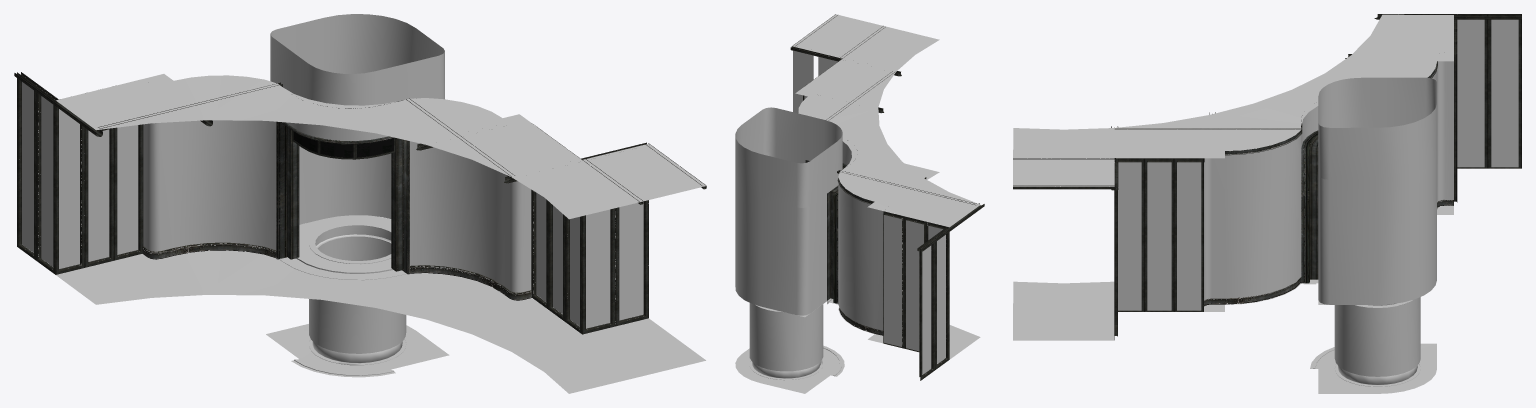
Rendered from tesla_modules_core_wall_inner_01.dae.
3 renders of one model, left to right at view 1: azimuth 30°, elevation 25°; view 2: azimuth 150°, elevation 25°; view 3: azimuth 270°, elevation 25°, orthographic. The views are drawn at different scales.
Parts seen in each view (by area): view 1: polySurface527, polySurface473, polySurface525, polySurface528, polySurface499, polySurface521, polySurface1; view 2: polySurface527, polySurface525, polySurface499, polySurface528, polySurface473, polySurface521; view 3: polySurface527, polySurface525, polySurface499, polySurface528, polySurface473, polySurface521.
Part boxes in pixels (box(x1,y1,x2,y2)): polySurface527: box(56, 74, 705, 377); polySurface473: box(56, 250, 705, 393); polySurface525: box(270, 14, 444, 353); polySurface528: box(14, 72, 706, 334); polySurface499: box(22, 82, 643, 328); polySurface521: box(279, 222, 406, 365); polySurface1: box(293, 132, 393, 157); polySurface527: box(735, 14, 980, 393); polySurface525: box(735, 107, 842, 371); polySurface499: box(793, 50, 946, 374); polySurface528: box(790, 14, 984, 380); polySurface473: box(838, 163, 980, 359); polySurface521: box(750, 298, 838, 380); polySurface527: box(1013, 14, 1453, 393); polySurface525: box(1318, 77, 1436, 376); polySurface499: box(1118, 19, 1518, 310); polySurface528: box(1013, 14, 1521, 339); polySurface473: box(1013, 200, 1453, 340); polySurface521: box(1303, 279, 1419, 386).
Bounding box in the file's own units: 12.08 × 8.67 × 15.
